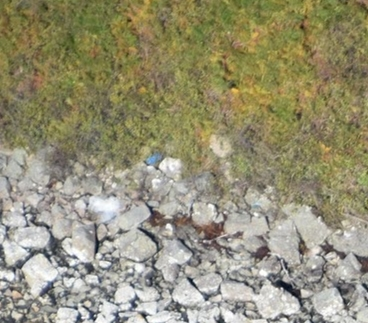white_in_green: (71, 170, 140, 235), (130, 134, 181, 180)
